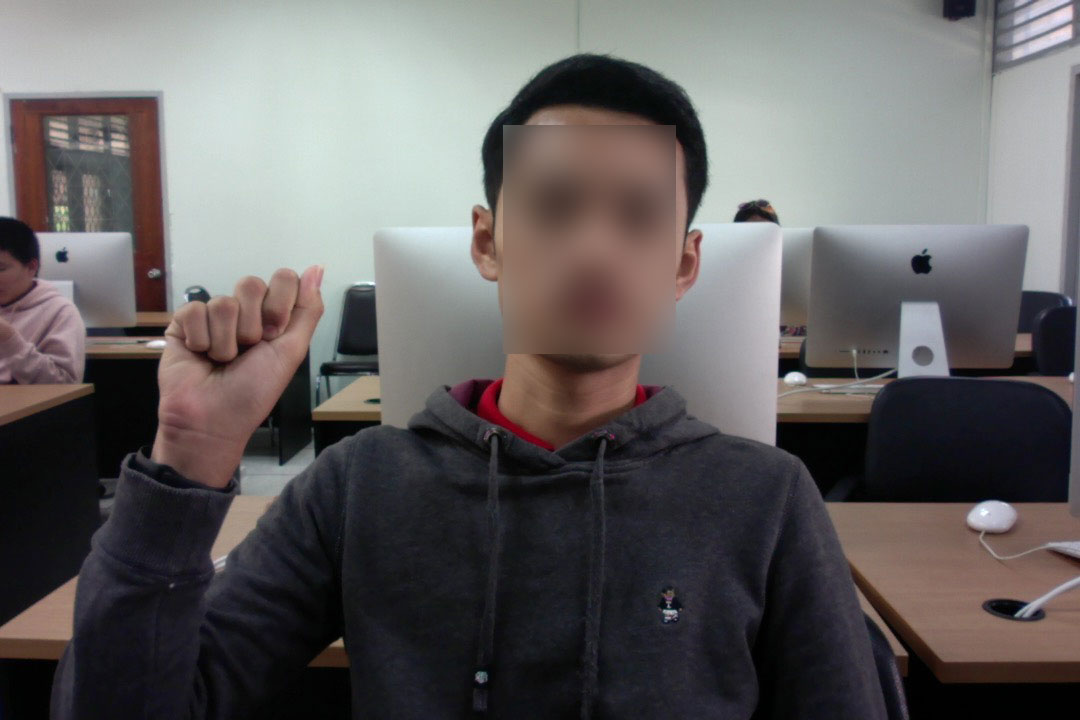or: (143, 255, 333, 458)
